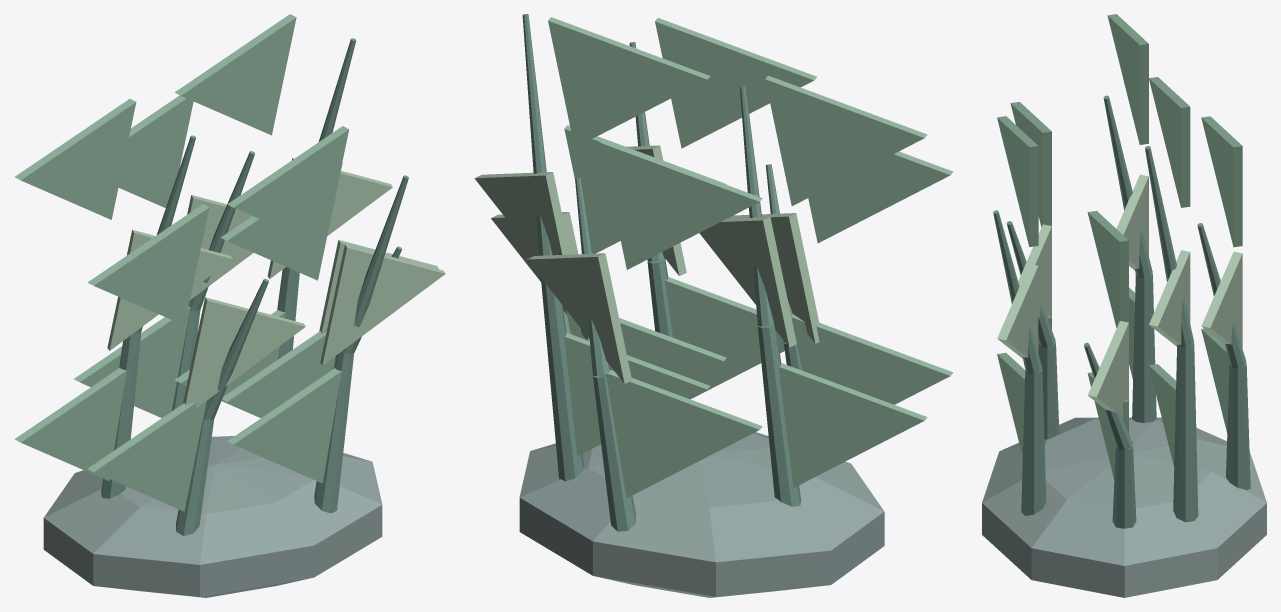
Rendered from marine-kelp.glb.
3 views of the same model, side by side, from view 1: azimuth 30°, elevation 25°; view 2: azimuth 150°, elevation 25°; view 3: azimuth 270°, elevation 25° (orthographic). The views are drawn at different scales.
Visible parts, largest first — view 1: marine-kelp; view 2: marine-kelp; view 3: marine-kelp.
Boxes of the visible parts, bbox=[...] form: marine-kelp: bbox=[14, 14, 445, 597]; marine-kelp: bbox=[474, 14, 953, 597]; marine-kelp: bbox=[982, 14, 1266, 597].
Bounding box in the file's own units: 2.5 × 2.92 × 1.5.
